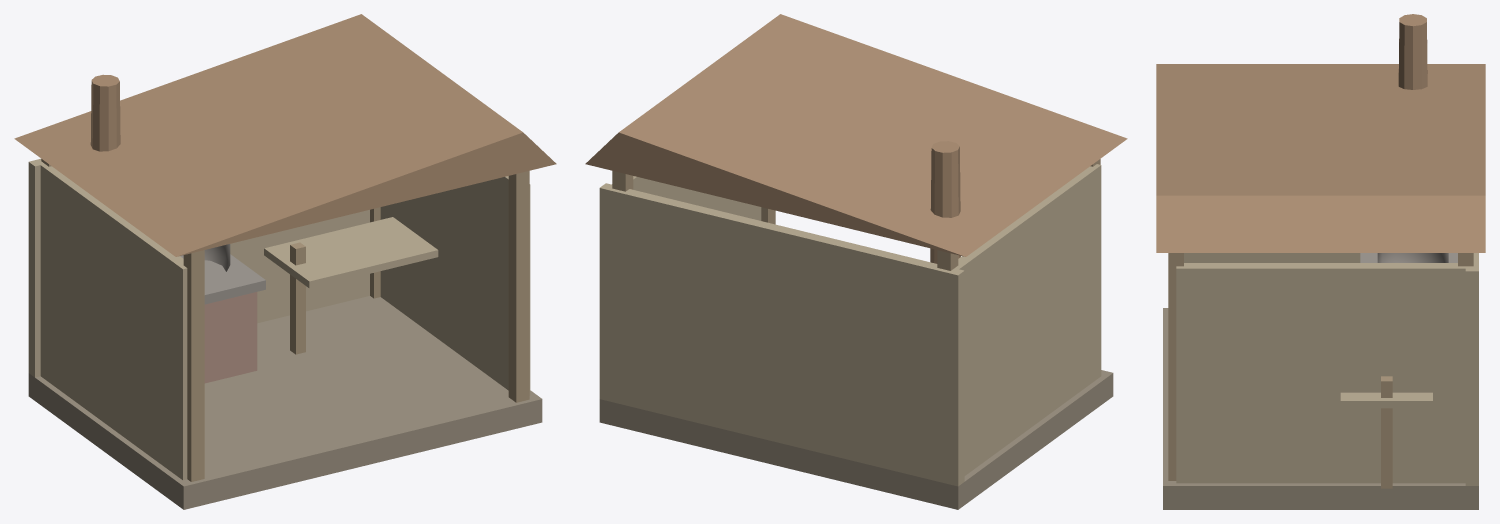
File: trench-line-1917-kitchen-shelter-66ff35d2__24073.glb
3 views of the same model, side by side, from view 1: azimuth 30°, elevation 25°; view 2: azimuth 150°, elevation 25°; view 3: azimuth 270°, elevation 25° (orthographic).
Visible parts, largest first — view 1: kitchen-shelter; view 2: kitchen-shelter; view 3: kitchen-shelter.
Part boxes in pixels (bbox=[...]): kitchen-shelter: bbox=[14, 14, 556, 509]; kitchen-shelter: bbox=[585, 14, 1127, 509]; kitchen-shelter: bbox=[1156, 14, 1485, 509].
Size of the model in its own units: 3.4 by 2.8 by 2.5.
